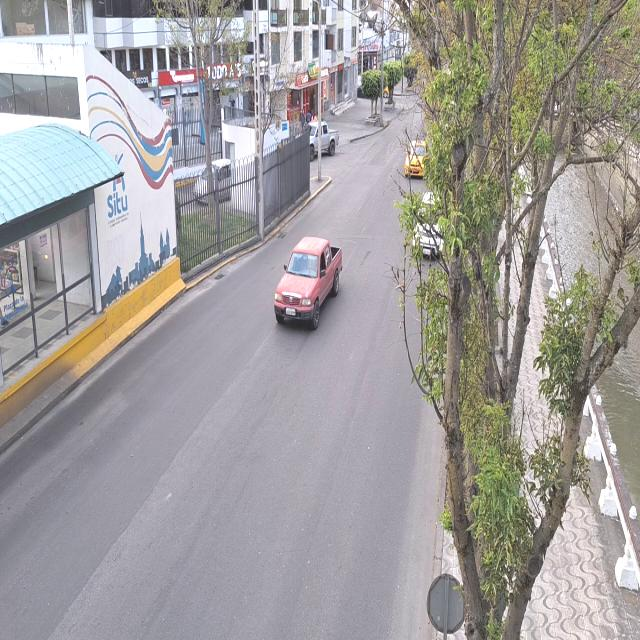CMT: (273, 240, 340, 330)
